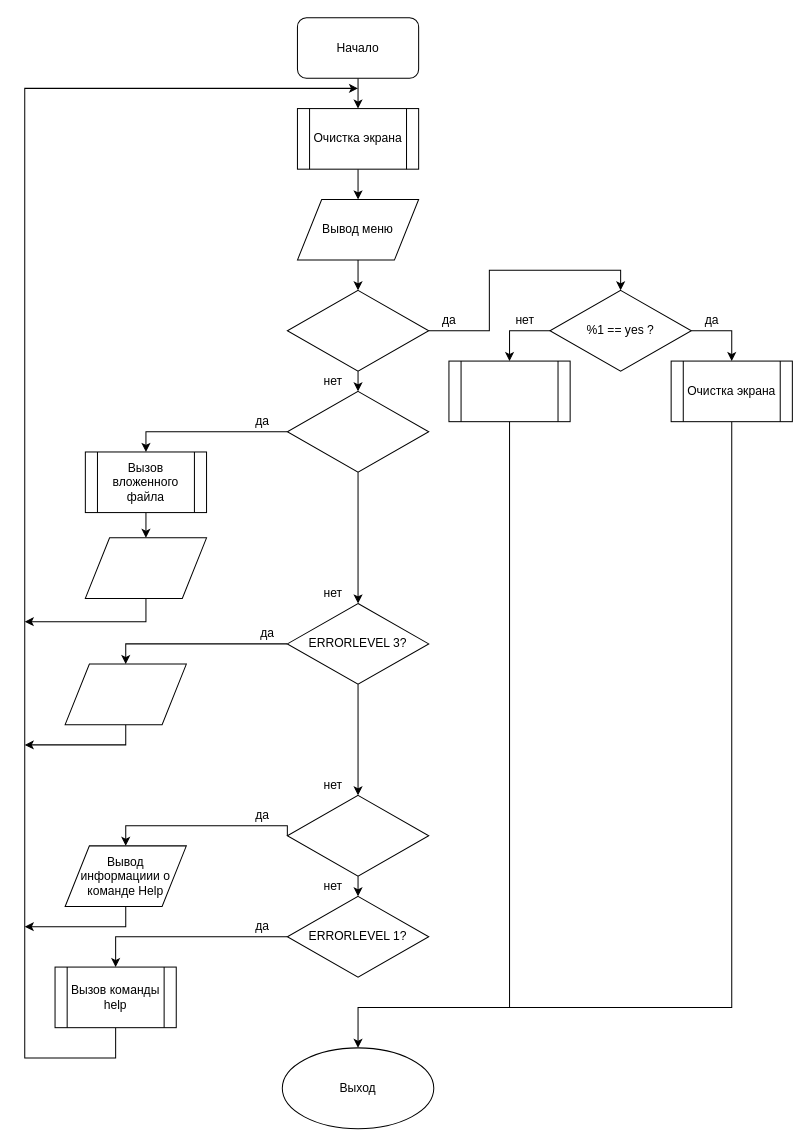
The diagram is 810 pixels wide and 1146 high, and some of its shapes have lost their labels. Each missing label, with the centre of its shape:
ERRORLEVEL 2?: (357,835)
ERRORLEVEL 4?: (357,431)
ERRORLEVEL 5?: (357,330)
Вывод информациии о команде Date: (125,694)
Вывод информациии о студенте: (145,567)
Экран не очищается: (509,391)
